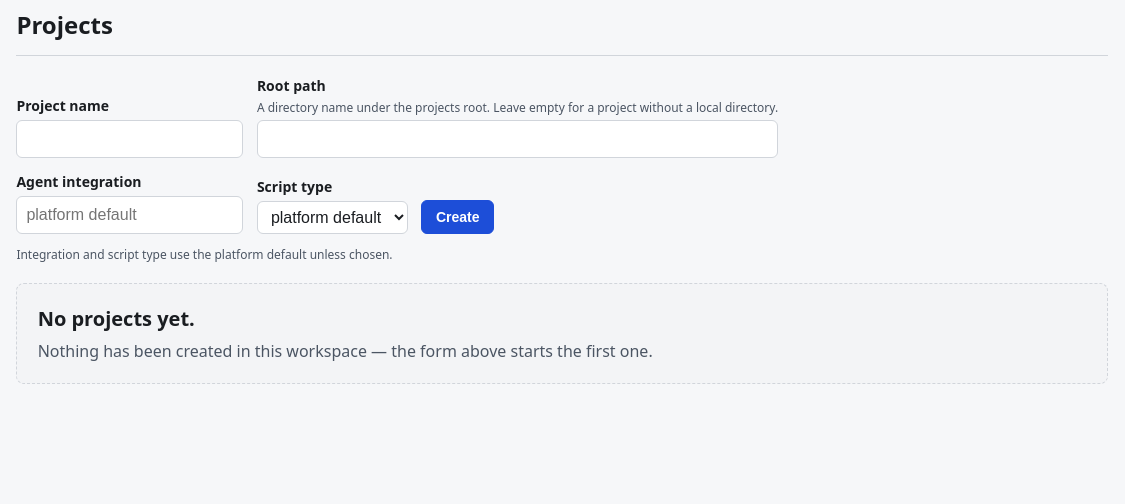
Test: T1378 · the create form › shows the credential value ONCE with a copy control, and it is gone after navigating into the project
Expected: the text "No projects yet." is shown, [38, 305, 195, 333]
Type "Alpha" into the field labelled "Project name" at [130, 139], box [16, 120, 243, 158]
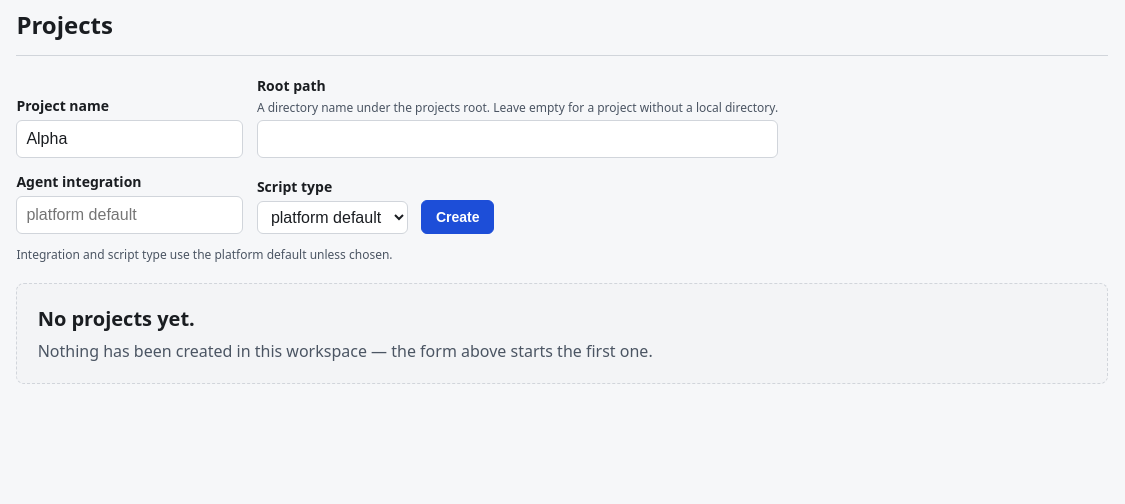
Type "alpha" into the field labelled "Root path" at [518, 139], box [257, 120, 778, 158]
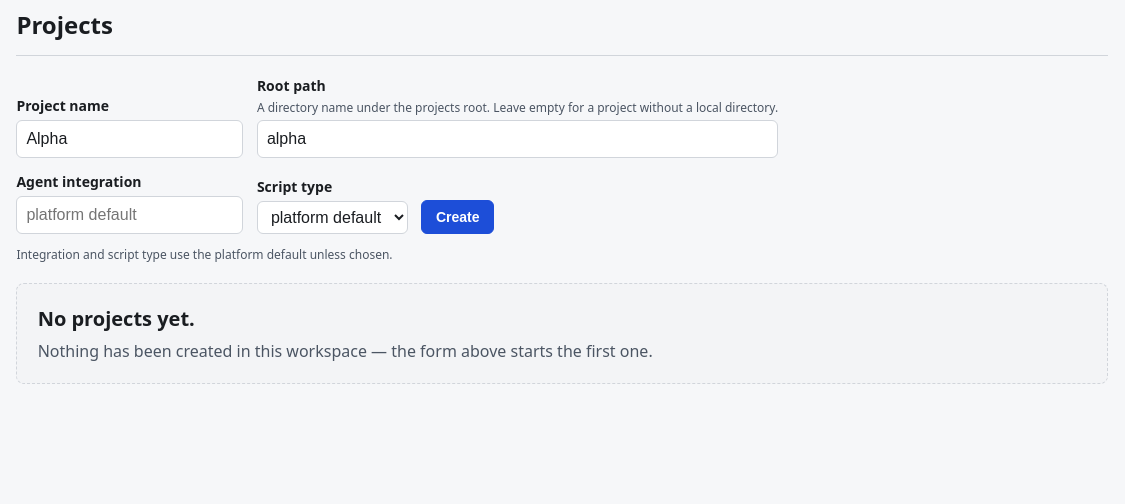
Click the button "Create" at [458, 217], box [421, 200, 494, 234]
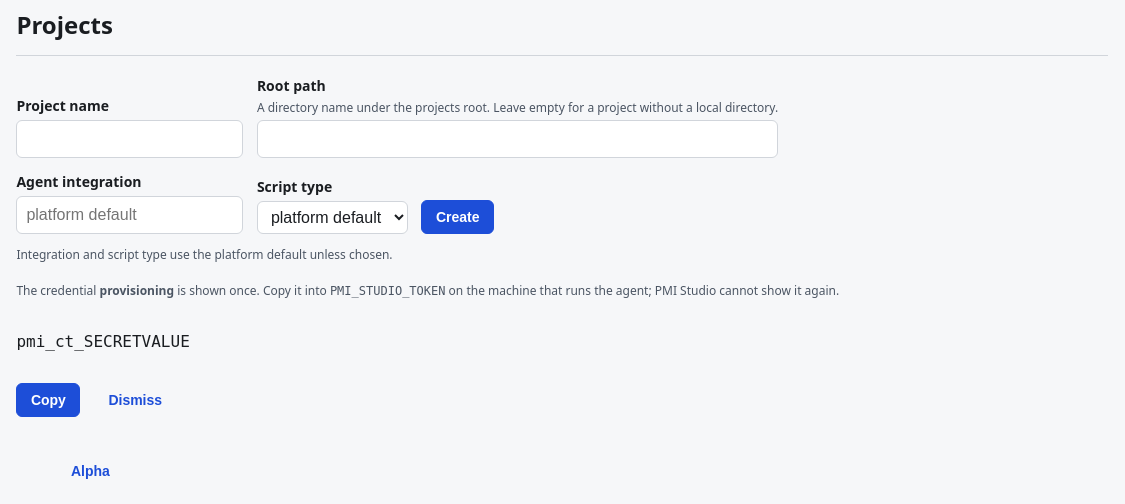
Now the text "pmi_ct_SECRETVALUE" is shown, box [16, 332, 190, 351]
Now the button "Copy" is shown, box [16, 383, 80, 417]
Now the text "shown once" is shown, box [174, 282, 330, 299]
Click the button "Alpha" at [90, 471], box [56, 454, 124, 488]
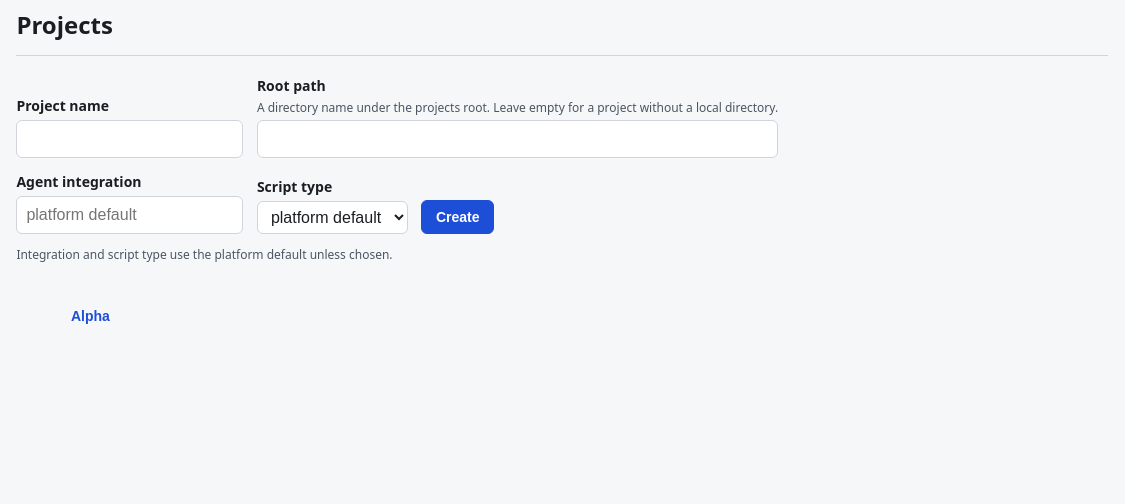
Now the text "pmi_ct_SECRETVALUE" is gone
